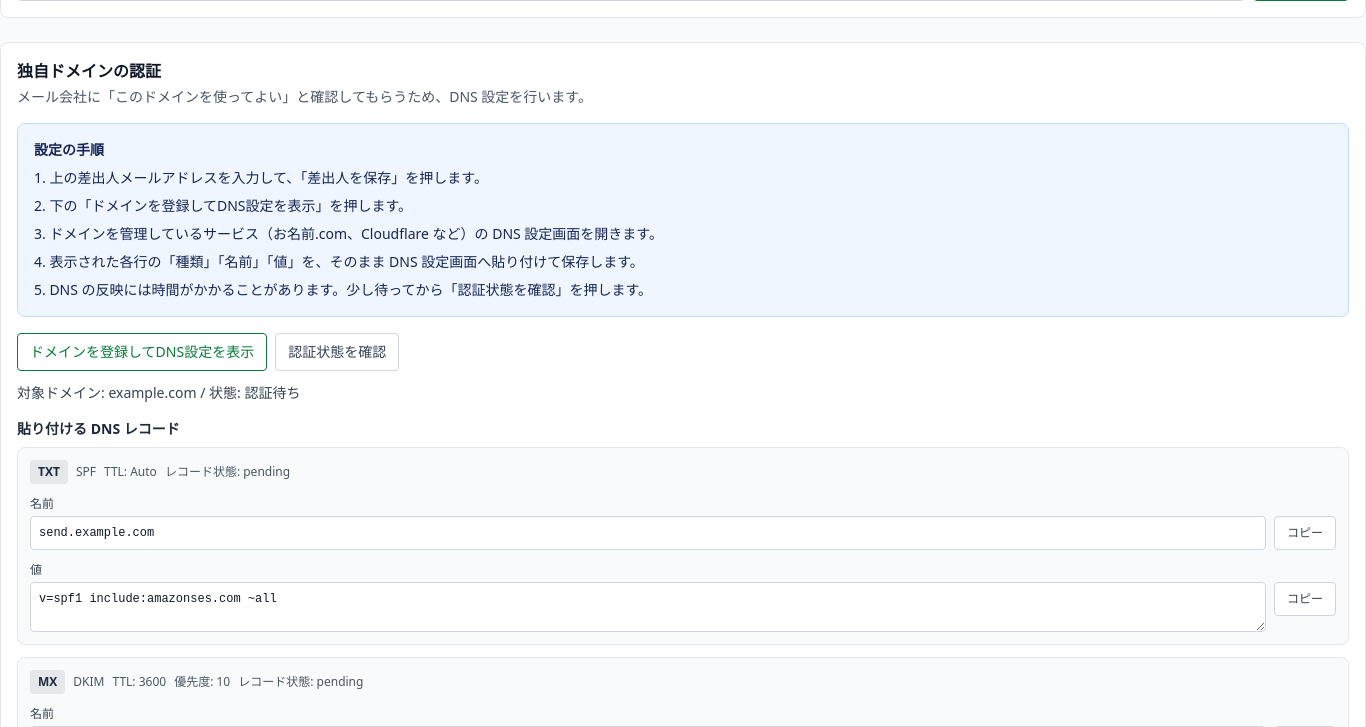
it: EmailSenderSettingsPanel › 確認ボタンで pending から verified に更新する
This screenshot has width=1366, height=727.
(page scrolled)
Check: the text with test id "email-sender-domain-status" shows "認証待ち", box [244, 383, 300, 402]
What coordinates should you click on to do the following:
click the button "認証状態を確認"
I would click on:
 (337, 352)
Its box is [275, 333, 399, 371].
(page scrolled)
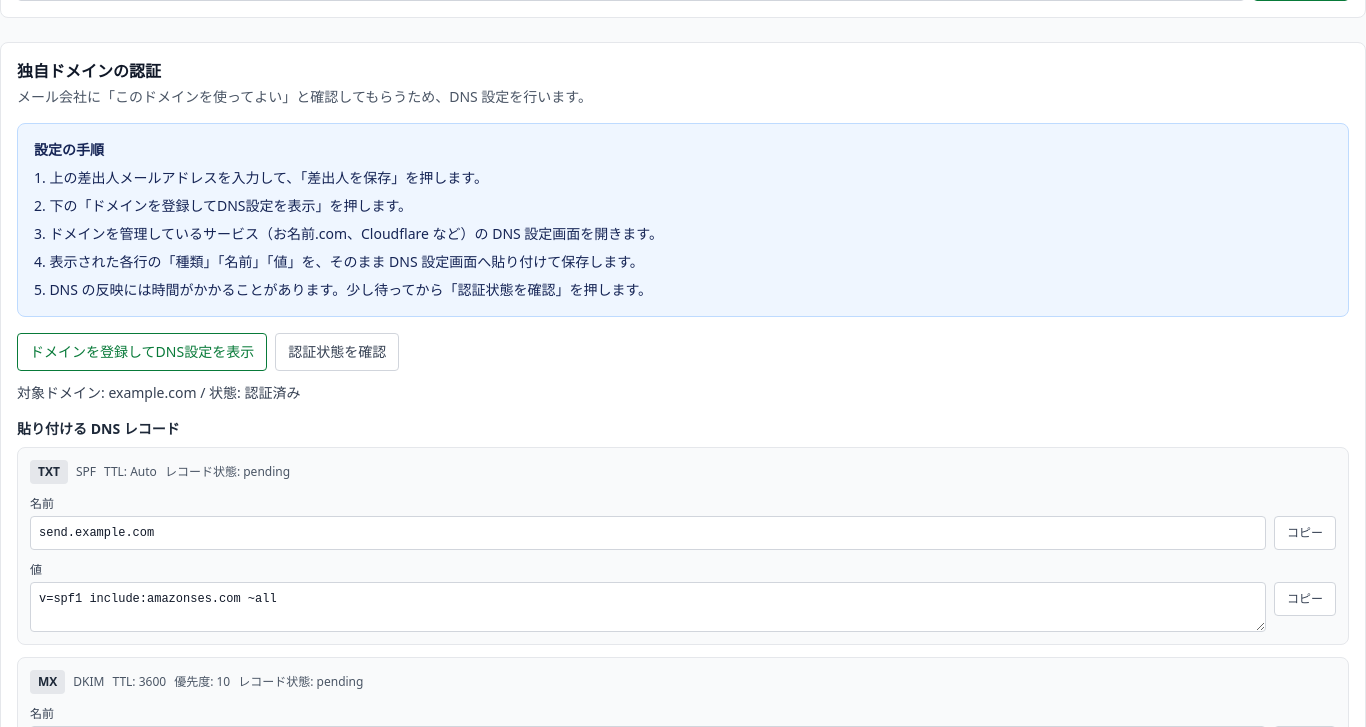
Check: the text with test id "email-sender-domain-status" shows "認証済み", box [244, 383, 300, 402]
